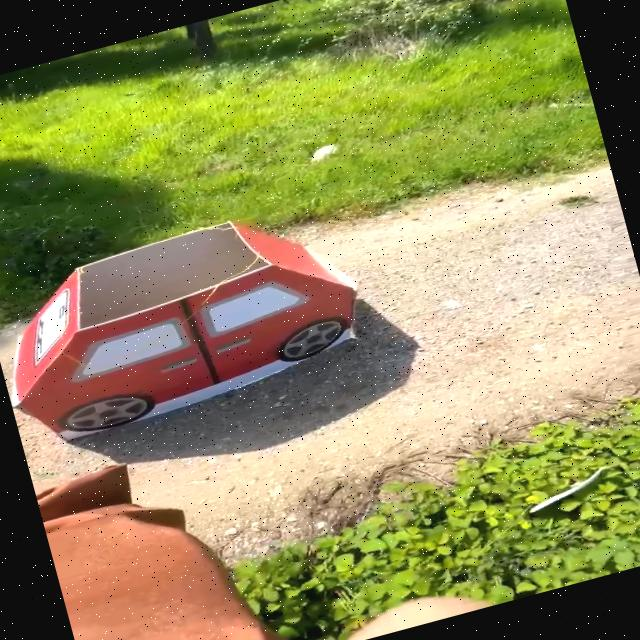red_car: (0, 176, 403, 468)
